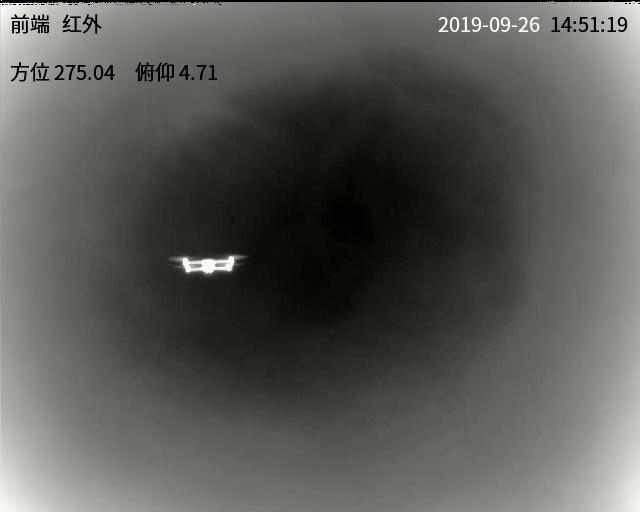DRONE: (175, 255, 241, 276)
